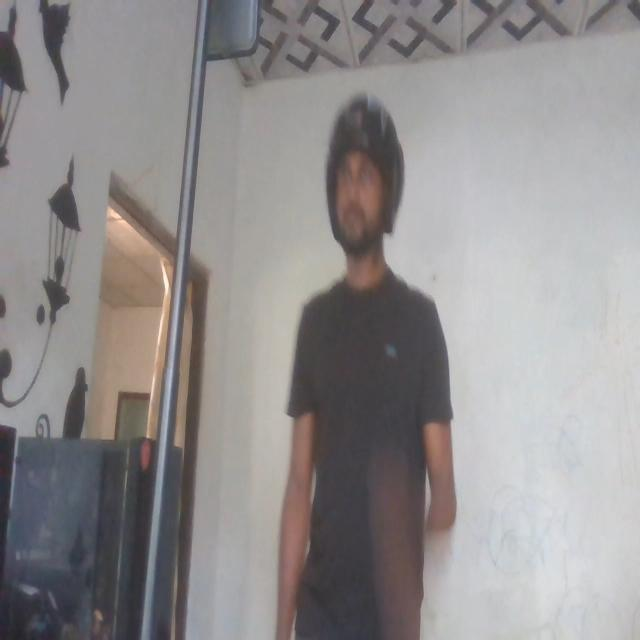Helmet_Wearer: (323, 94, 404, 307)
Person: (267, 83, 486, 640)
